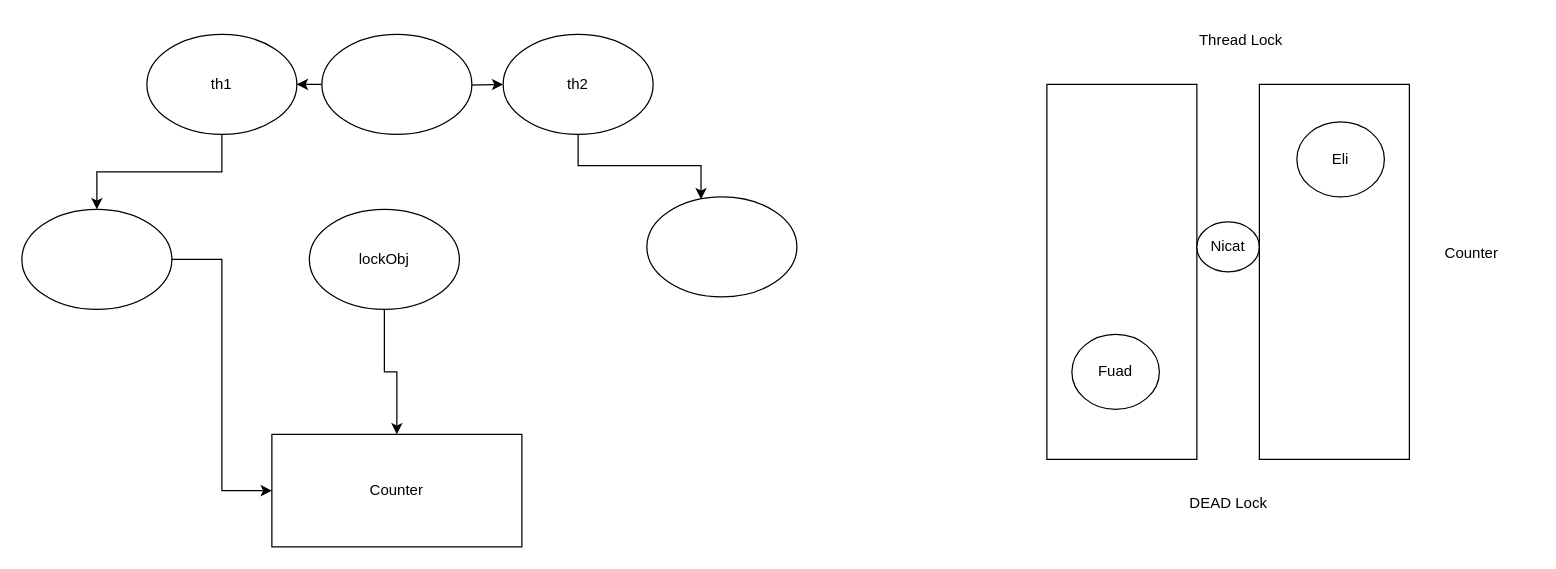
Image size: 1556x569. Some labels were removed from this diagram. Here are the shapes that lost their labels. From the top down, the centre of each, then its label:
At (x=396, y=83): "Main".
At (x=96, y=258): "Increment".
At (x=721, y=246): "Decrement".
